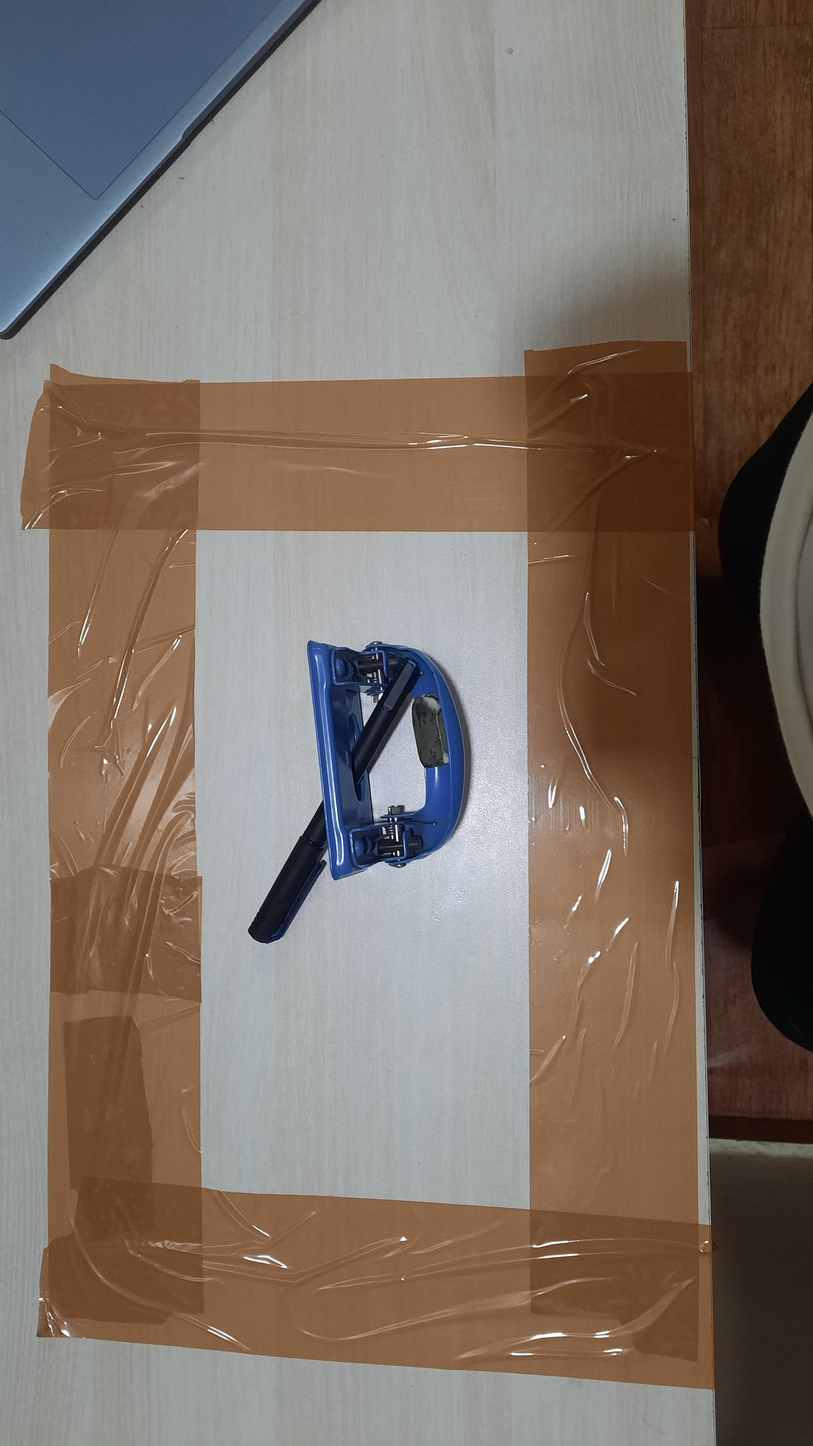Eraser: (412, 693, 448, 769)
Pen: (247, 656, 421, 945)
Punch: (307, 640, 466, 881)
